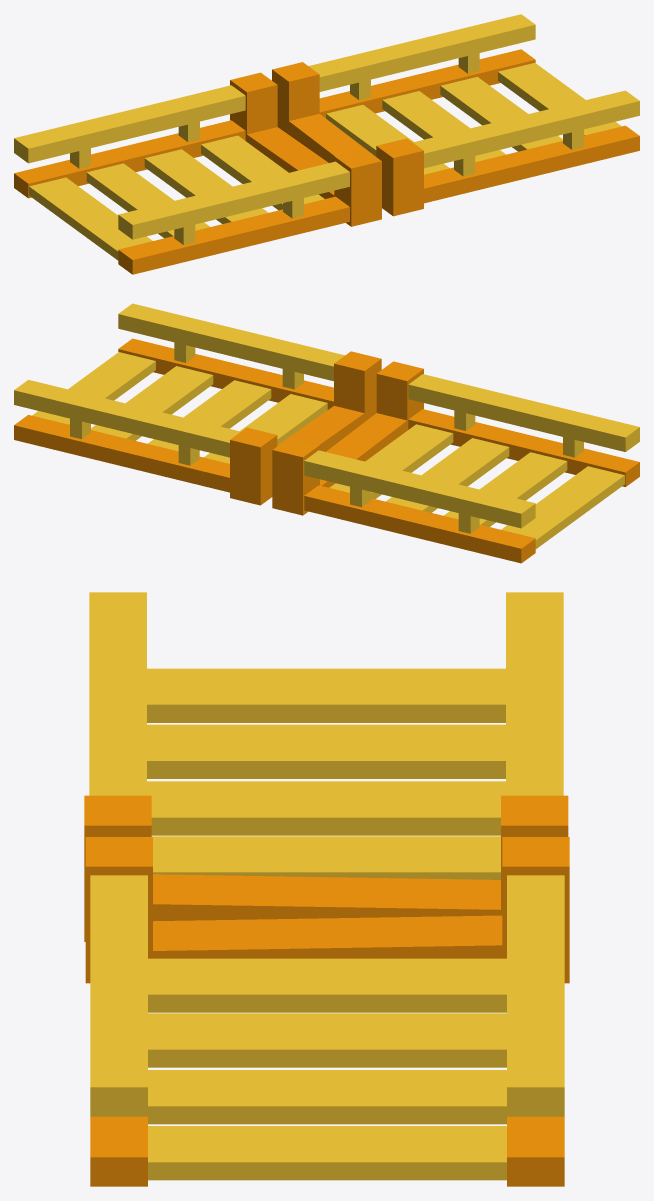
Rendered from bridge (1).fbx.
The picture shows the model from 3 angles, top to bottom: view 1: azimuth 30°, elevation 25°; view 2: azimuth 150°, elevation 25°; view 3: azimuth 270°, elevation 25°; orthographic projection. The views are drawn at different scales.
Parts seen in each view (by area): view 1: bridge.001, bridge; view 2: bridge.001, bridge; view 3: bridge, bridge.001.
Boxes of the visible parts, x1,y1,x2,y2 form: bridge.001: (14,72,381,274); bridge: (272,14,639,216); bridge.001: (272,361,639,563); bridge: (14,303,381,505); bridge: (85,837,569,1186); bridge.001: (84,592,568,941).
Size of the model in its own units: 12.03 by 1.32 by 4.98.
